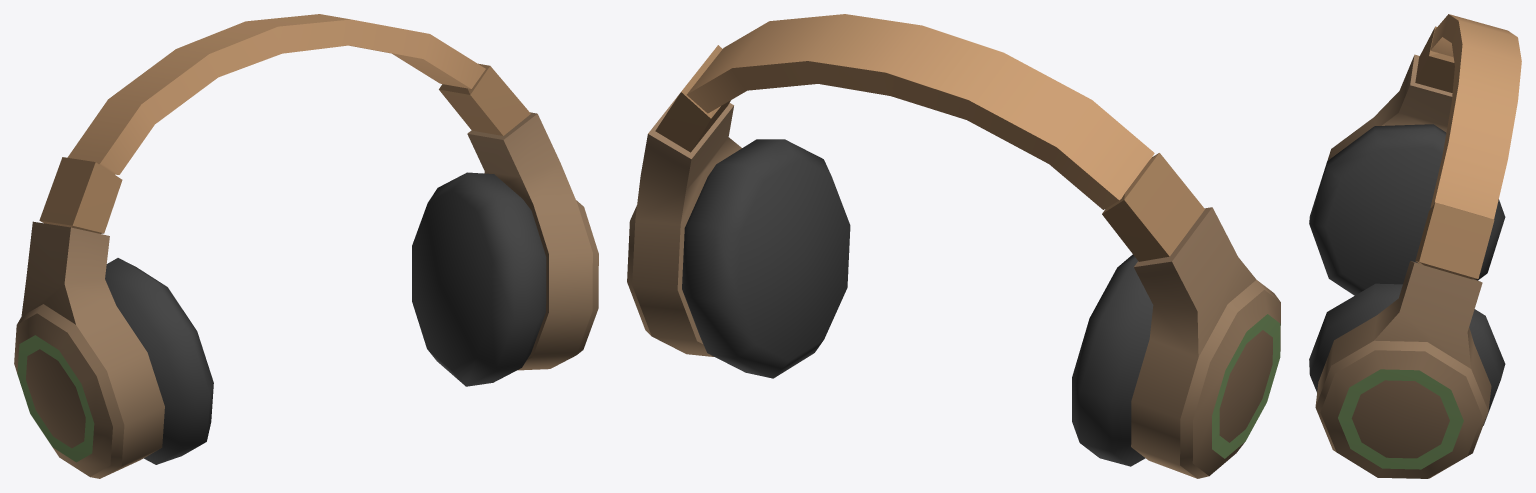
The model's file is Headgear_27.fbx.
3 renders of one model, left to right at view 1: azimuth 30°, elevation 25°; view 2: azimuth 150°, elevation 25°; view 3: azimuth 270°, elevation 25°, orthographic. The views are drawn at different scales.
Parts seen in each view (by area): view 1: Headgear_27; view 2: Headgear_27; view 3: Headgear_27.
Part boxes in pixels (x1,y1,x2,y2): Headgear_27: (14,14,598,478); Headgear_27: (627,14,1280,478); Headgear_27: (1309,14,1521,478).
Bounding box in the file's own units: 113 × 73.42 × 42.61.
